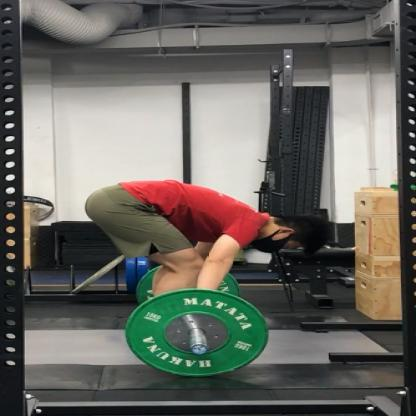Barbell: (121, 284, 276, 380)
